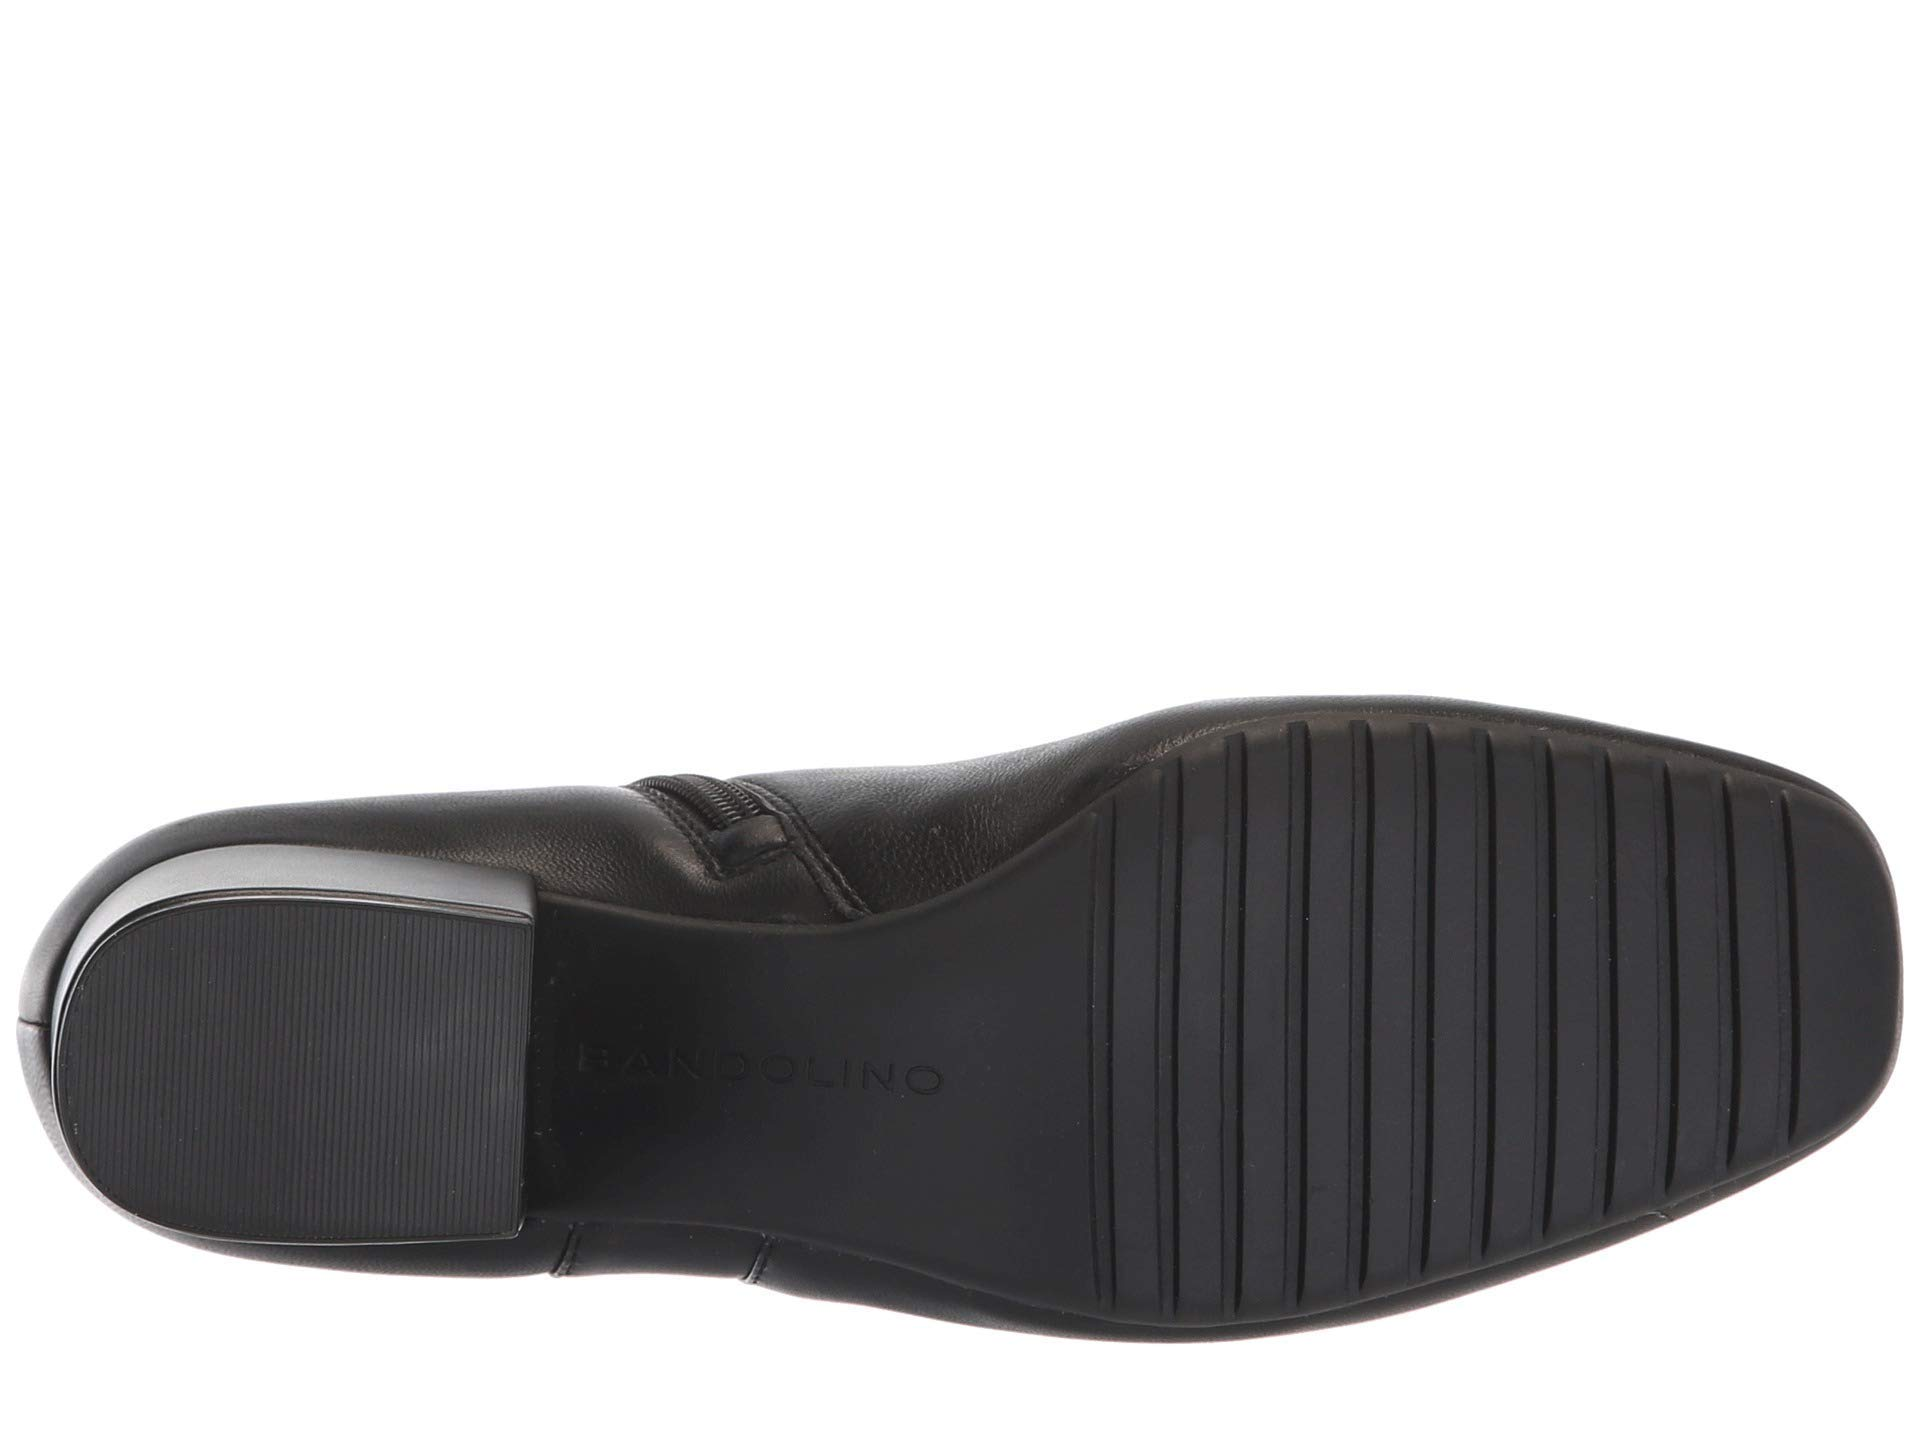line: (1128, 814, 1847, 1106), (119, 939, 494, 1206)
